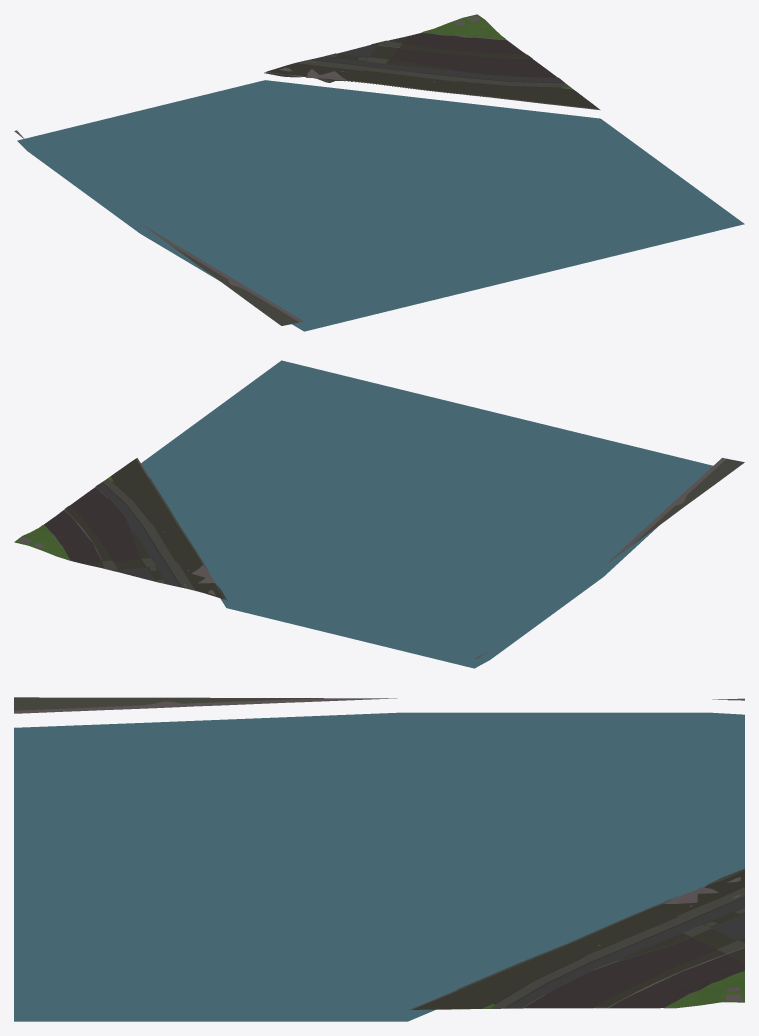
The picture shows the model from 3 angles, top to bottom: view 1: azimuth 30°, elevation 25°; view 2: azimuth 150°, elevation 25°; view 3: azimuth 270°, elevation 25°; orthographic projection. The views are drawn at different scales.
Parts seen in each view (by area): view 1: c_m13_p07; view 2: c_m13_p07; view 3: c_m13_p07.
Boxes of the visible parts, bbox=[...] form: c_m13_p07: bbox=[14, 14, 744, 331]; c_m13_p07: bbox=[14, 360, 744, 668]; c_m13_p07: bbox=[14, 697, 744, 1021].
Bounding box in the file's own units: 128 × 3.77 × 128.
